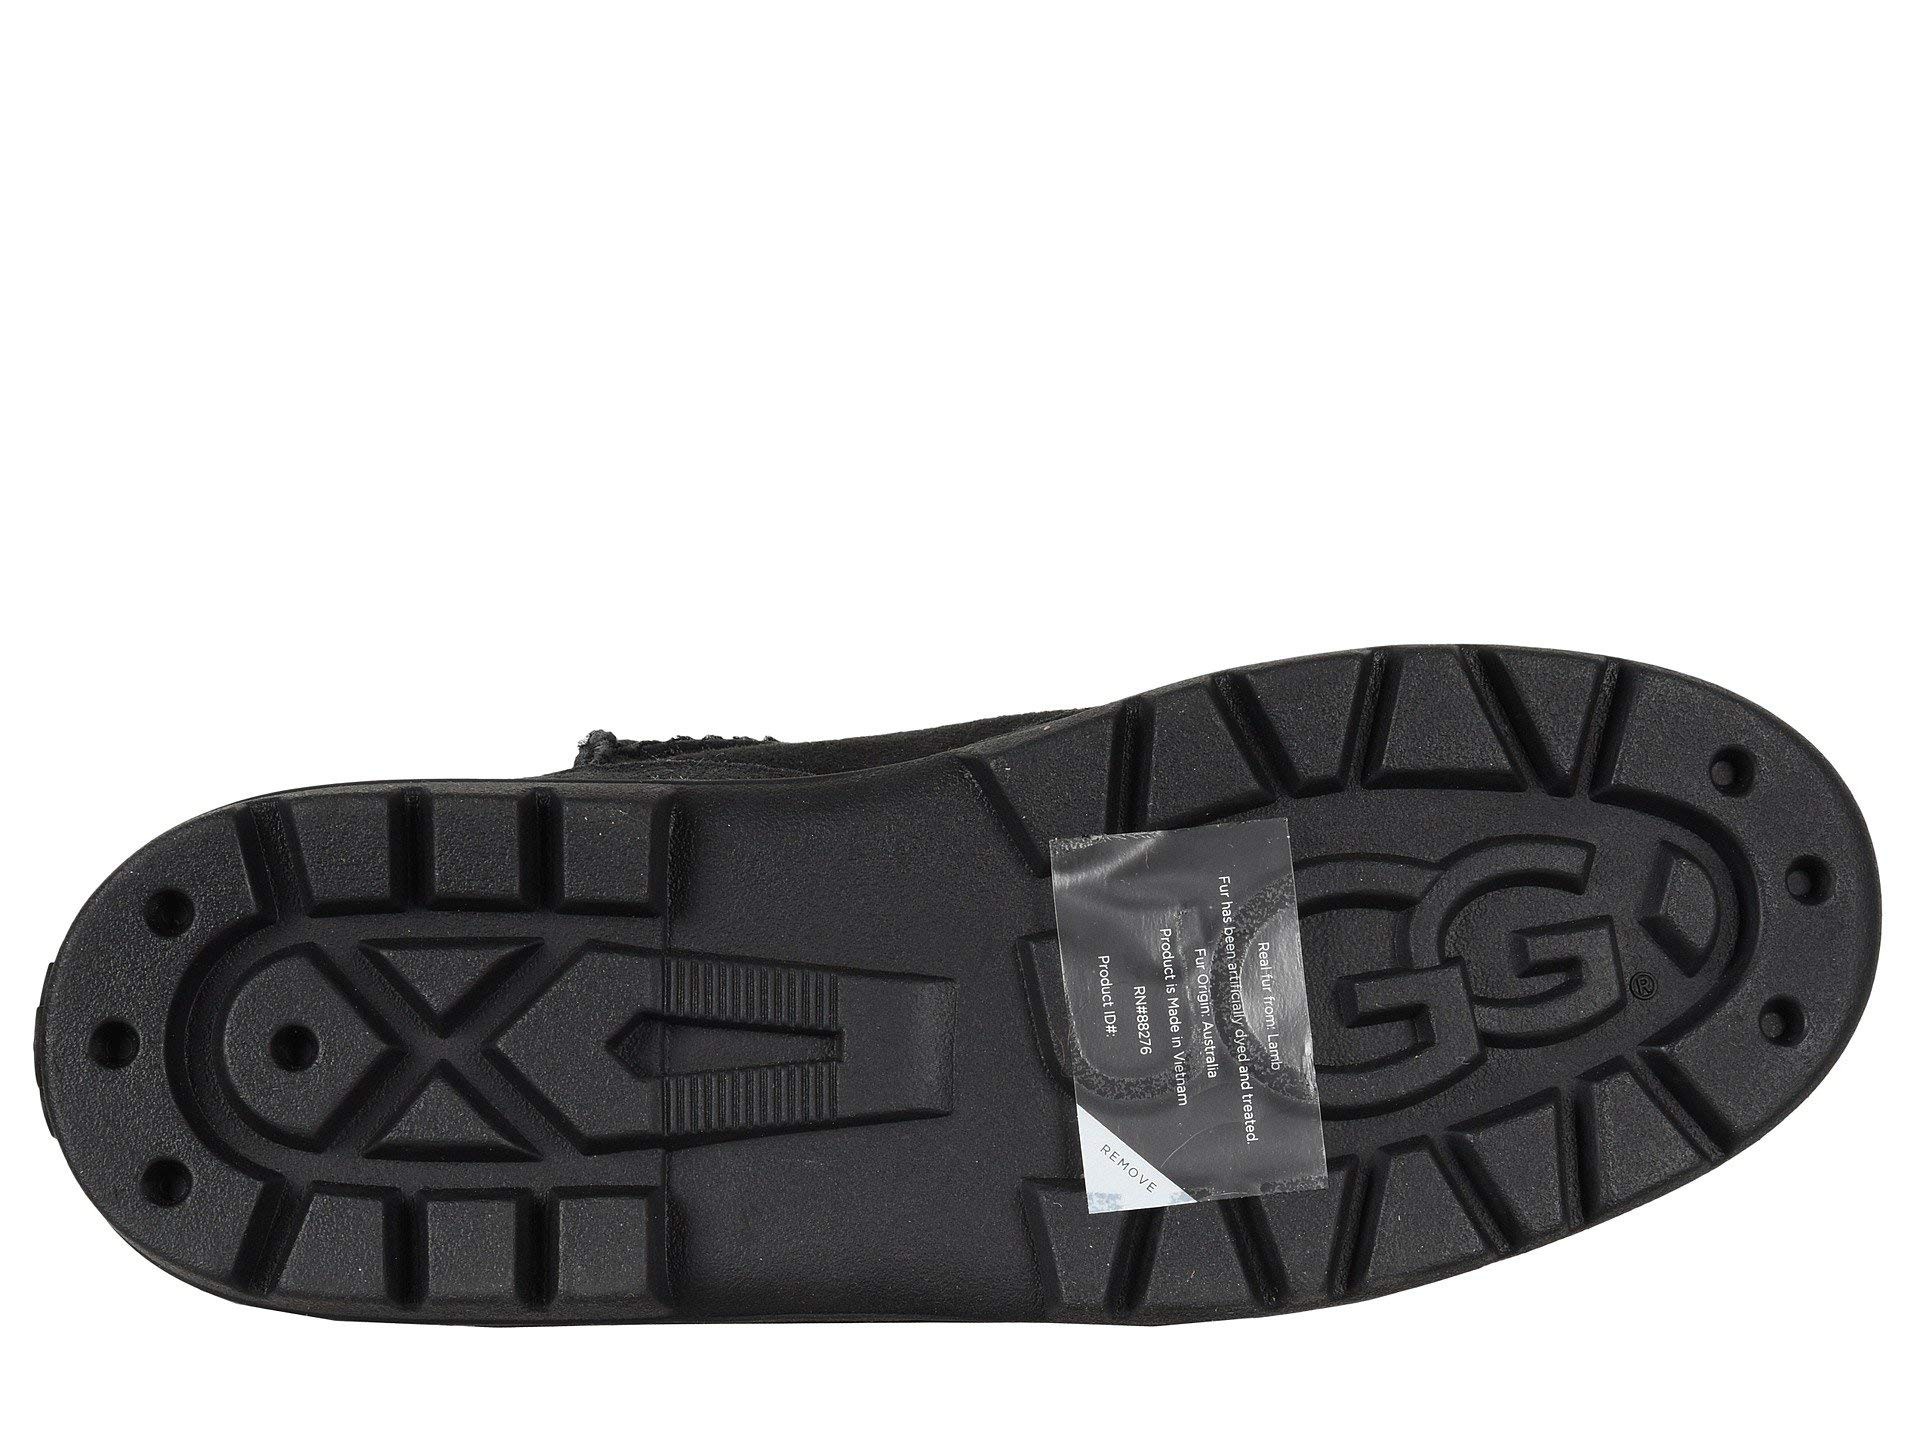circle: (1330, 817, 1696, 1063), (62, 988, 299, 1224), (1730, 787, 1838, 1063)
exclude: (1042, 836, 1315, 1221)
line: (658, 930, 971, 1145), (62, 988, 299, 1224), (1730, 787, 1838, 1063)
other: (1330, 817, 1696, 1063)
polygon: (358, 915, 647, 1175)
quad: (658, 930, 971, 1145), (1231, 635, 1613, 791), (287, 782, 686, 905)
text: (1330, 817, 1696, 1063)
triangle: (358, 915, 647, 1175), (1231, 635, 1613, 791)
